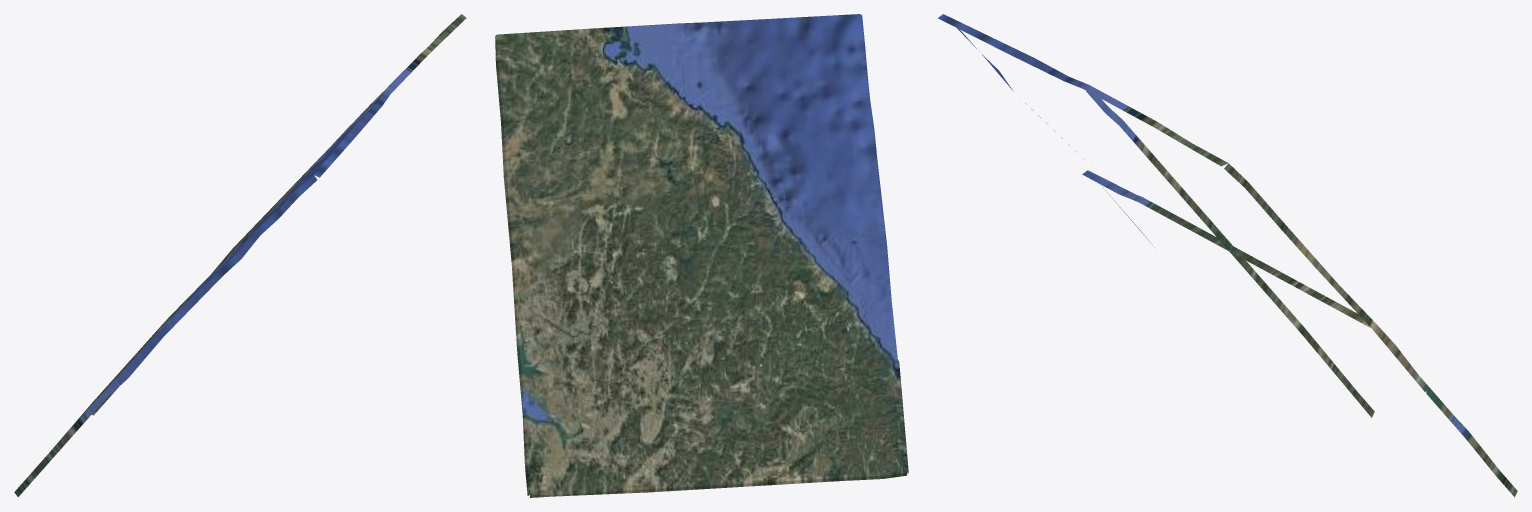
3 renders of one model, left to right at view 1: azimuth 30°, elevation 25°; view 2: azimuth 150°, elevation 25°; view 3: azimuth 270°, elevation 25°, orthographic. The views are drawn at different scales.
Bounding box in the file's own units: 315706 × 251541 × 309001.
Materials: 1 (1 with a texture image).
